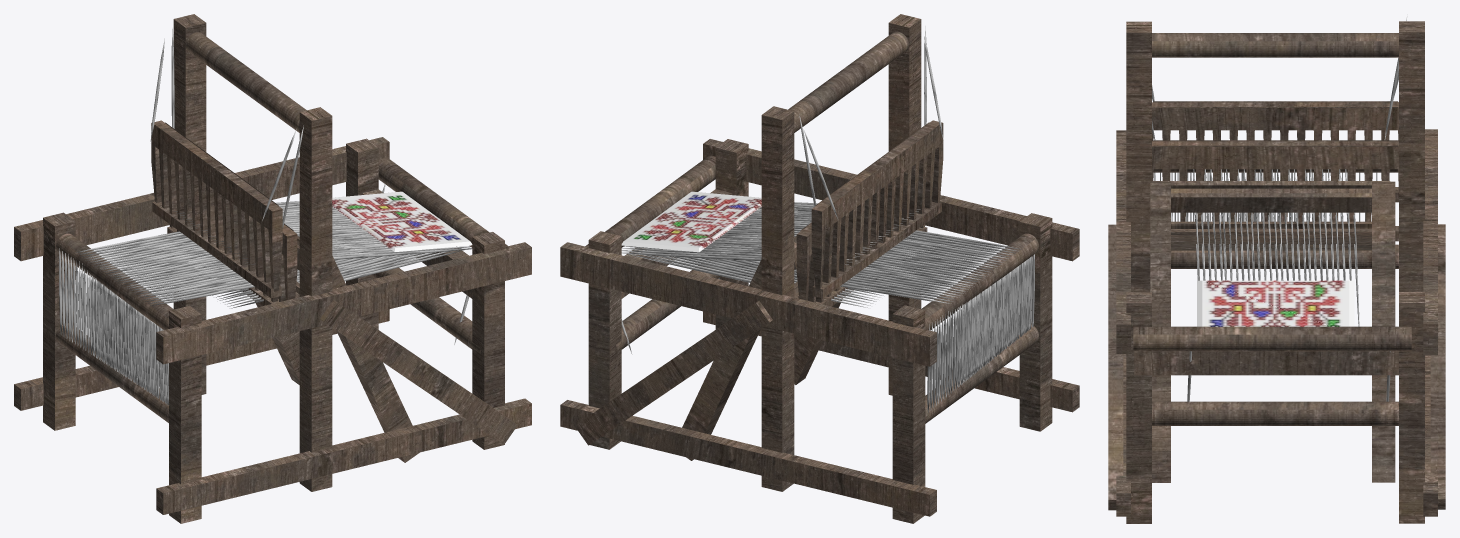
Rendered from stan.fbx.
3 views of the same model, side by side, from view 1: azimuth 30°, elevation 25°; view 2: azimuth 150°, elevation 25°; view 3: azimuth 270°, elevation 25° (orthographic). The views are drawn at different scales.
Parts seen in each view (by area): view 1: Cylinder.5, ropes_stan, Plane.001; view 2: Cylinder.5, ropes_stan, Plane.001; view 3: Cylinder.5, ropes_stan, Plane.001, Cube.016.
Part boxes in pixels (<box>): Cylinder.5: <box>14,14,531,523</box>; ropes_stan: <box>59,28,472,405</box>; Plane.001: <box>332,191,472,251</box>; Cylinder.5: <box>560,14,1079,523</box>; ropes_stan: <box>621,26,1034,412</box>; Plane.001: <box>621,191,761,252</box>; Cylinder.5: <box>1108,21,1445,523</box>; ropes_stan: <box>1152,14,1407,401</box>; Plane.001: <box>1197,280,1354,326</box>; Cube.016: <box>1171,221,1371,250</box>.
Size of the model in its own units: 188 by 184 by 138.
